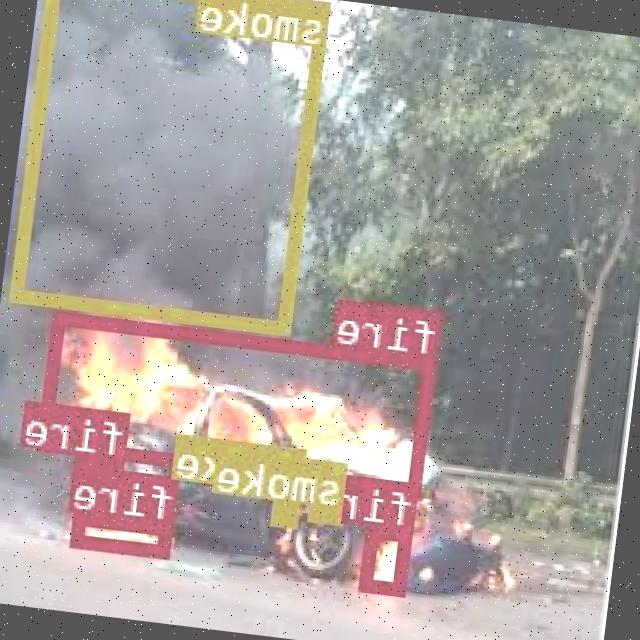fire: (39, 311, 440, 493), (74, 511, 176, 557), (363, 522, 414, 592), (71, 451, 126, 514)
smoke: (11, 0, 332, 332), (274, 492, 302, 524), (312, 503, 344, 522)
